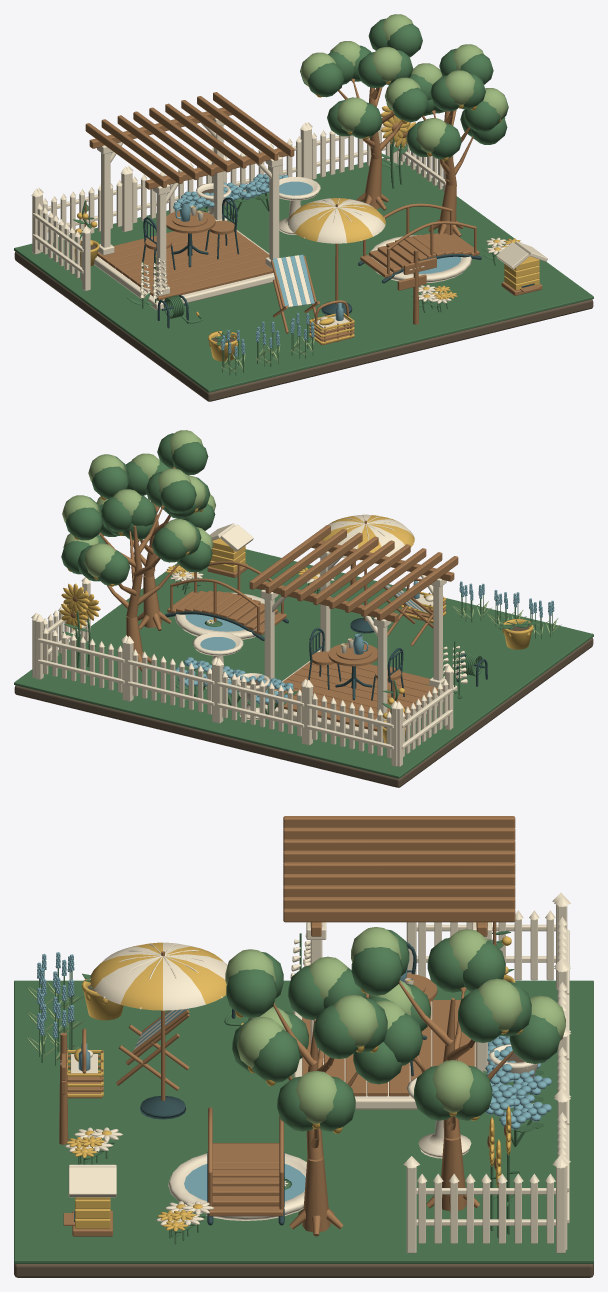
Rendered from almanac-gardens-summer-garden-scene-3d05e127__22098.glb.
3 renders of one model, top to bottom at view 1: azimuth 30°, elevation 25°; view 2: azimuth 150°, elevation 25°; view 3: azimuth 270°, elevation 25°, orthographic. The views are drawn at different scales.
Parts seen in each view (by area): view 1: 000-summer-ground/summer-ground-leaf, 007-garden-pergola/garden-pergola-oak, 000-summer-ground/summer-ground-soil, 024-pear-tree/pear-tree-leaf, 012-fruiting-orchard-tree/fruiting-orchard-tree-leaf, 007-garden-pergola/garden-pergola-ivory, 014-footbridge/footbridge-oak, 012-fruiting-orchard-tree/fruiting-orchard-tree-sage, 005-picket-fence/picket-fence-ivory, 024-pear-tree/pear-tree-sage, 001-picket-fence/picket-fence-ivory, 004-picket-fence/picket-fence-ivory (+21 smaller); view 2: 000-summer-ground/summer-ground-leaf, 007-garden-pergola/garden-pergola-oak, 012-fruiting-orchard-tree/fruiting-orchard-tree-leaf, 000-summer-ground/summer-ground-soil, 024-pear-tree/pear-tree-leaf, 007-garden-pergola/garden-pergola-ivory, 001-picket-fence/picket-fence-ivory, 002-picket-fence/picket-fence-ivory, 003-picket-fence/picket-fence-ivory, 004-picket-fence/picket-fence-ivory, 014-footbridge/footbridge-oak, 012-fruiting-orchard-tree/fruiting-orchard-tree-sage (+18 smaller); view 3: 000-summer-ground/summer-ground-leaf, 007-garden-pergola/garden-pergola-oak, 012-fruiting-orchard-tree/fruiting-orchard-tree-leaf, 024-pear-tree/pear-tree-leaf, 000-summer-ground/summer-ground-soil, 006-picket-fence/picket-fence-ivory, 012-fruiting-orchard-tree/fruiting-orchard-tree-sage, 024-pear-tree/pear-tree-sage, 014-footbridge/footbridge-oak, 015-garden-parasol/garden-parasol-ivory, 015-garden-parasol/garden-parasol-gold, 005-picket-fence/picket-fence-ivory (+25 smaller).
Boxes of the visible parts, bbox=[...] form: 000-summer-ground/summer-ground-leaf: bbox=[14, 157, 593, 392]; 007-garden-pergola/garden-pergola-oak: bbox=[85, 92, 294, 300]; 000-summer-ground/summer-ground-soil: bbox=[14, 251, 593, 401]; 024-pear-tree/pear-tree-leaf: bbox=[385, 48, 508, 159]; 012-fruiting-orchard-tree/fruiting-orchard-tree-leaf: bbox=[300, 18, 432, 138]; 007-garden-pergola/garden-pergola-ivory: bbox=[97, 118, 282, 296]; 014-footbridge/footbridge-oak: bbox=[360, 203, 479, 277]; 012-fruiting-orchard-tree/fruiting-orchard-tree-sage: bbox=[300, 14, 442, 131]; 005-picket-fence/picket-fence-ivory: bbox=[31, 189, 91, 291]; 024-pear-tree/pear-tree-sage: bbox=[385, 44, 507, 152]; 001-picket-fence/picket-fence-ivory: bbox=[37, 166, 129, 252]; 004-picket-fence/picket-fence-ivory: bbox=[306, 121, 397, 179]; 000-summer-ground/summer-ground-leaf: bbox=[14, 549, 593, 778]; 007-garden-pergola/garden-pergola-oak: bbox=[249, 525, 458, 731]; 012-fruiting-orchard-tree/fruiting-orchard-tree-leaf: bbox=[61, 471, 212, 585]; 000-summer-ground/summer-ground-soil: bbox=[14, 637, 593, 787]; 024-pear-tree/pear-tree-leaf: bbox=[92, 433, 215, 540]; 007-garden-pergola/garden-pergola-ivory: bbox=[261, 551, 446, 727]; 001-picket-fence/picket-fence-ivory: bbox=[305, 679, 397, 766]; 002-picket-fence/picket-fence-ivory: bbox=[215, 658, 306, 744]; 003-picket-fence/picket-fence-ivory: bbox=[125, 636, 217, 722]; 004-picket-fence/picket-fence-ivory: bbox=[35, 614, 127, 700]; 014-footbridge/footbridge-oak: bbox=[167, 561, 286, 635]; 012-fruiting-orchard-tree/fruiting-orchard-tree-sage: bbox=[62, 468, 213, 577]; 000-summer-ground/summer-ground-leaf: bbox=[14, 980, 593, 1263]; 007-garden-pergola/garden-pergola-oak: bbox=[283, 816, 515, 1096]; 012-fruiting-orchard-tree/fruiting-orchard-tree-leaf: bbox=[351, 929, 560, 1120]; 024-pear-tree/pear-tree-leaf: bbox=[226, 952, 402, 1131]; 000-summer-ground/summer-ground-soil: bbox=[14, 1263, 593, 1277]; 006-picket-fence/picket-fence-ivory: bbox=[403, 1156, 569, 1253]; 012-fruiting-orchard-tree/fruiting-orchard-tree-sage: bbox=[351, 927, 565, 1112]; 024-pear-tree/pear-tree-sage: bbox=[225, 949, 378, 1123]; 014-footbridge/footbridge-oak: bbox=[208, 1107, 283, 1216]; 015-garden-parasol/garden-parasol-ivory: bbox=[89, 942, 227, 1010]; 015-garden-parasol/garden-parasol-gold: bbox=[90, 942, 226, 1010]; 005-picket-fence/picket-fence-ivory: bbox=[406, 892, 568, 989].
Size of the model in its own units: 8.22 by 3.82 by 7.
